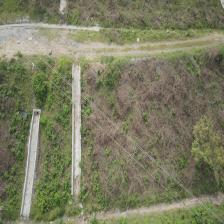slope_drain: (21, 109, 41, 222), (71, 64, 82, 201)
vegetation: (191, 115, 224, 172)
